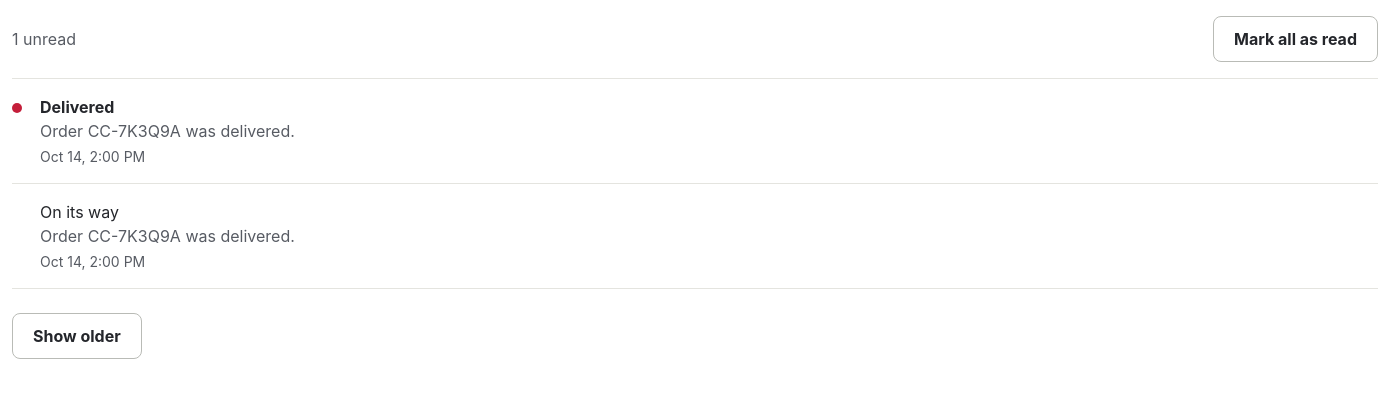
Test: inbox › loads older notifications a page at a time
Click the button "Show older" at (77, 336), box 12,313 -> 142,359
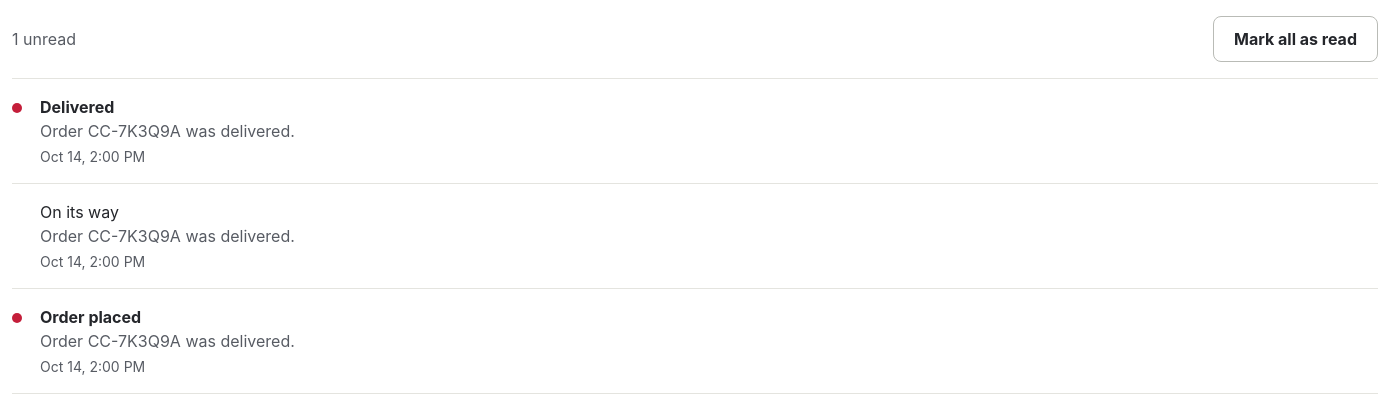
Check: the button "Order placed Order CC-7K3Q9A was delivered. Oct 14, 2:00 PM" is shown, box 12,289 -> 1378,393
Check: the button "Show older" is gone
